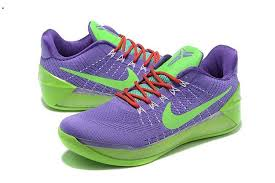nike: (161, 86, 233, 131), (59, 65, 137, 90)
